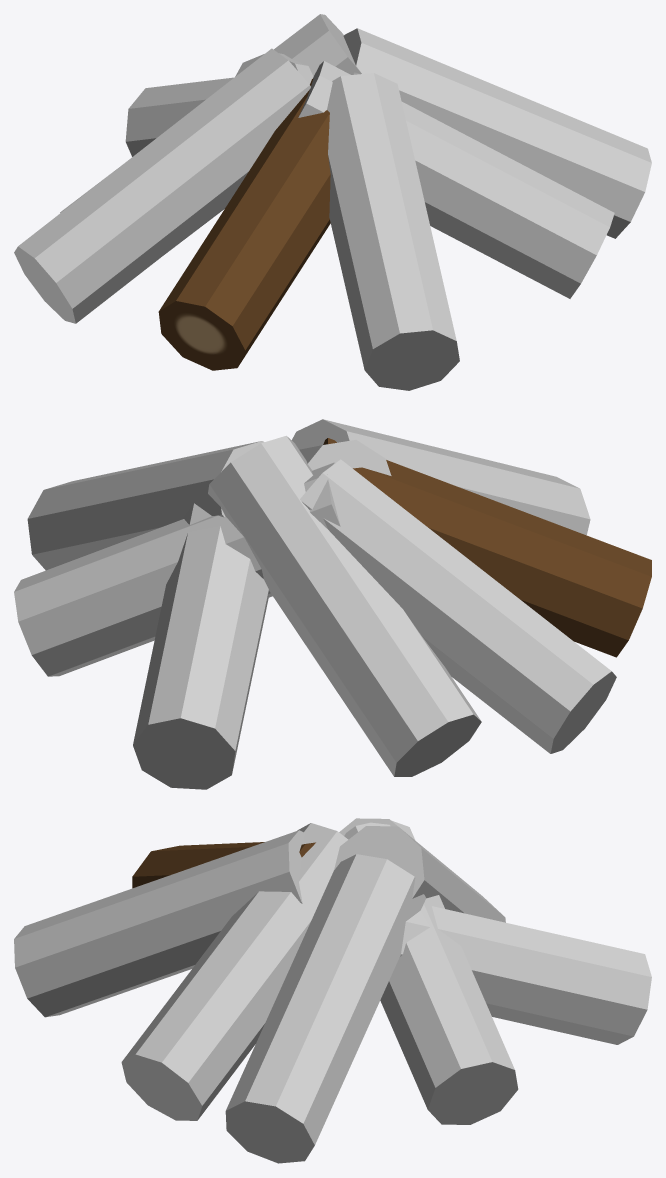
The model's file is CampFire.fbx.
3 renders of one model, top to bottom at view 1: azimuth 30°, elevation 25°; view 2: azimuth 150°, elevation 25°; view 3: azimuth 270°, elevation 25°, orthographic. The views are drawn at different scales.
Parts seen in each view (by area): view 1: Cylinder.001; view 2: Cylinder.001; view 3: Cylinder.001.
Part boxes in pixels (x1=…): Cylinder.001: x1=14, y1=14, x2=651, y2=390; Cylinder.001: x1=14, y1=419, x2=651, y2=789; Cylinder.001: x1=14, y1=818, x2=651, y2=1163.
Bounding box in the file's own units: 402 × 166 × 393.
